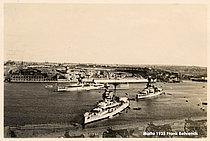Ship: (80, 91, 133, 125), (139, 79, 167, 101)
